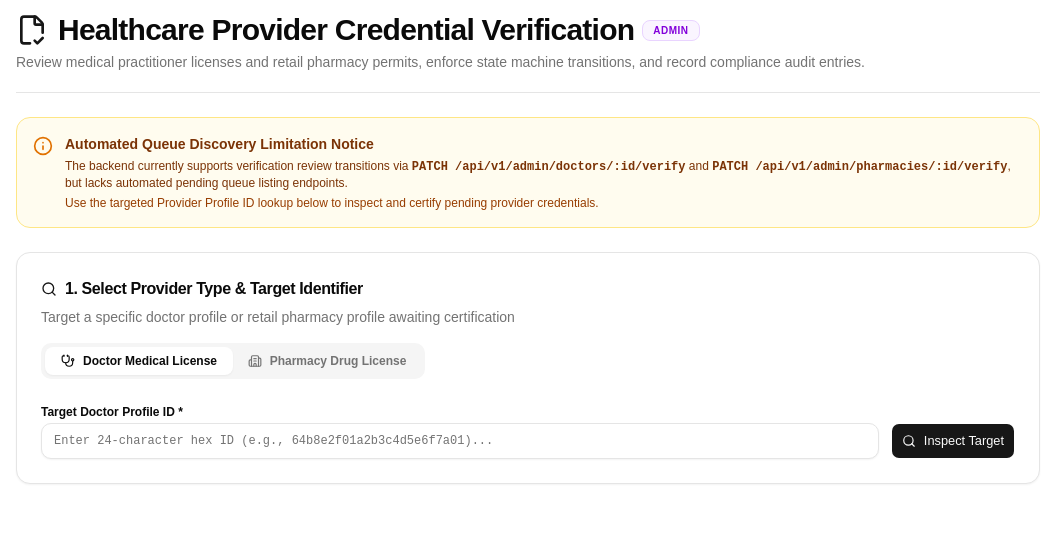
Scenario: Milestone 13 — Task 13.6: Admin Portal Views › Provider Verification Workspace (VerificationQueuePage.tsx) › 2.2 rejects invalid ID format (non-24 hex) with validation error
Replace the text in the field with test id "provider-lookup-input" with "invalid-id-xyz" at x=460, y=441, box [41,423,879,459]
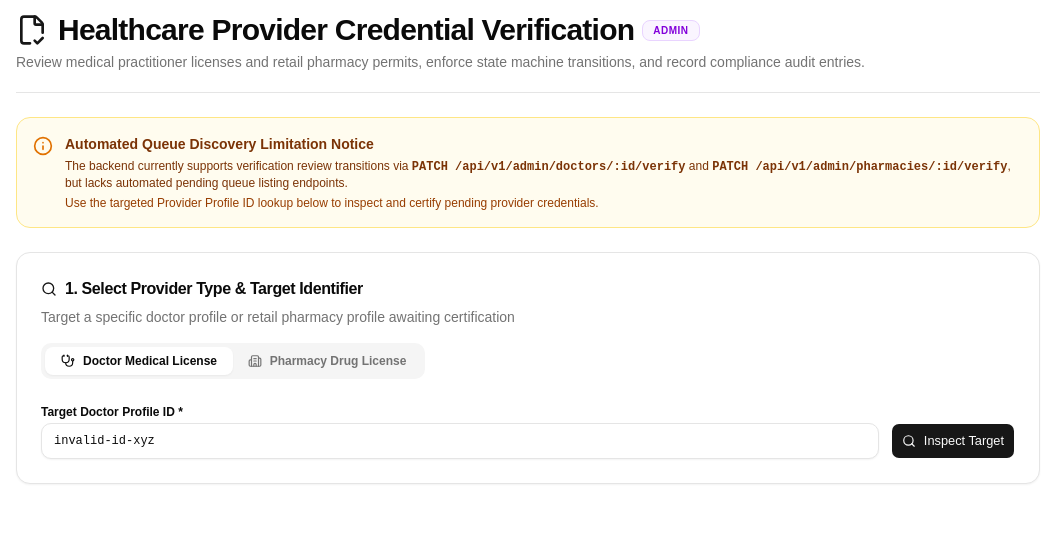
Click the button with test id "provider-lookup-btn" at x=953, y=441, box [891,423,1015,459]
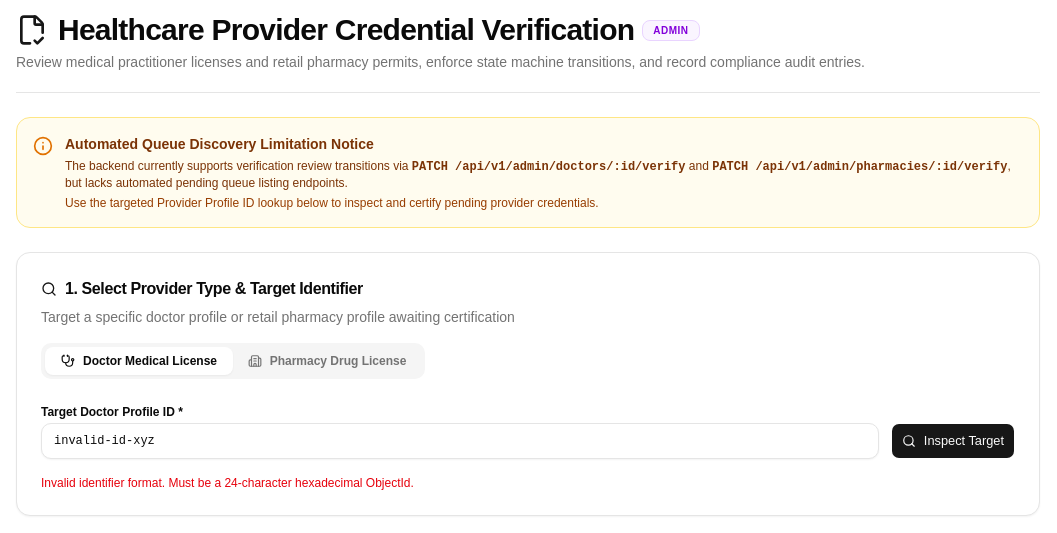
Expected: the text "Invalid identifier format. Must be a 24-character hexadecimal ObjectId" is shown, [41,476,414,490]
